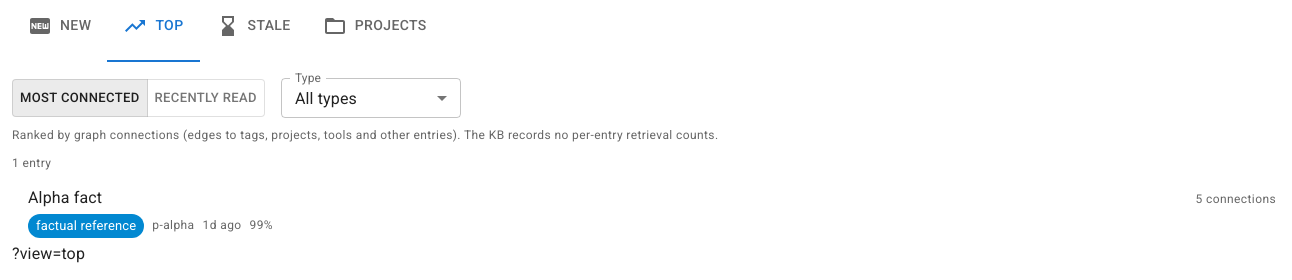
Scenario: BrowsePanel › (g) Top shows connections and Recently read
Expected: the text "5 connections" is shown, [1196,190,1276,210]
Click the button "Recently read": (206, 98) [146,79,265,117]
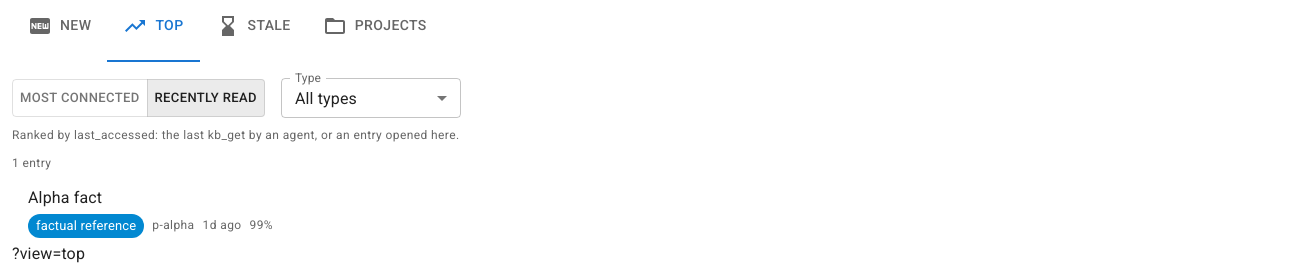
Expected: the text "Ranked by last_accessed: the last kb_get by an agent, or an entry opened here." is shown, [12,128,460,142]
